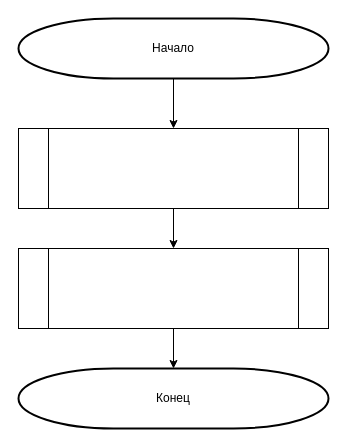
Some shapes in this 346 by 446 pixel diagram are drawn without their labels. The centre of each missing label's shape, as x and y in pixels:
"Добавить заказ в таблице orderdb, itemorderdb" goes at pixel 173 168.
"Обновить количество товаров на складе в таблице productdb -= new.quantity" goes at pixel 173 288.
